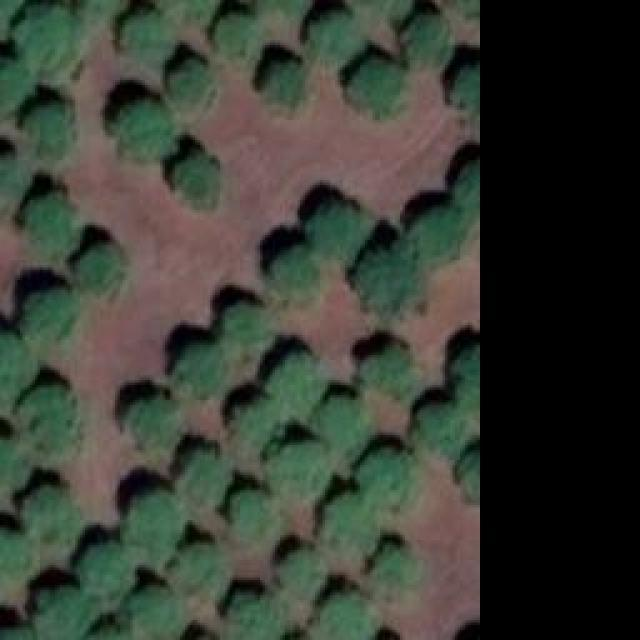Tree: (358, 240, 433, 313), (15, 383, 83, 453), (20, 190, 85, 260), (15, 8, 78, 78), (123, 485, 183, 558), (113, 100, 176, 160), (308, 200, 373, 258), (22, 580, 90, 635), (20, 482, 80, 540), (73, 237, 133, 295), (362, 445, 420, 505), (20, 97, 78, 155), (265, 438, 325, 493), (172, 340, 230, 395), (125, 587, 182, 640), (410, 208, 470, 258), (328, 497, 378, 555), (230, 590, 288, 640), (28, 290, 88, 338), (113, 10, 168, 60), (360, 345, 415, 395), (320, 590, 375, 640), (355, 60, 405, 115), (178, 150, 228, 203), (128, 395, 181, 445), (303, 13, 356, 63), (403, 15, 453, 68), (272, 353, 320, 406), (315, 395, 363, 448), (173, 543, 223, 593), (410, 408, 465, 453), (235, 395, 283, 445), (175, 450, 225, 498), (275, 245, 323, 293), (232, 485, 280, 533), (168, 63, 213, 113), (373, 540, 418, 590), (80, 542, 125, 590), (212, 15, 260, 60), (222, 300, 270, 345), (263, 55, 308, 103), (442, 58, 480, 113), (450, 340, 480, 405), (278, 550, 323, 593), (0, 528, 35, 583), (0, 57, 35, 105), (0, 435, 28, 493), (0, 335, 30, 388), (455, 448, 480, 503), (450, 160, 480, 205), (153, 0, 216, 20), (0, 155, 25, 198), (355, 0, 413, 18), (248, 0, 303, 15), (0, 622, 40, 640)
